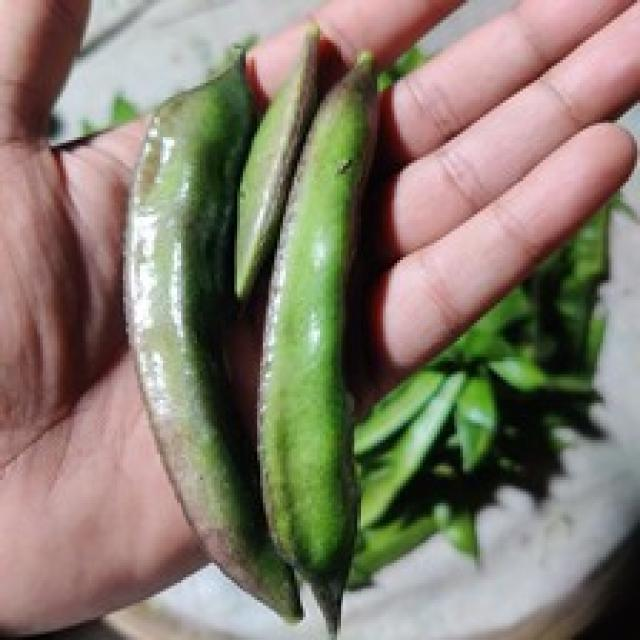Bean: (120, 37, 306, 626), (254, 46, 380, 634), (231, 20, 320, 303)
